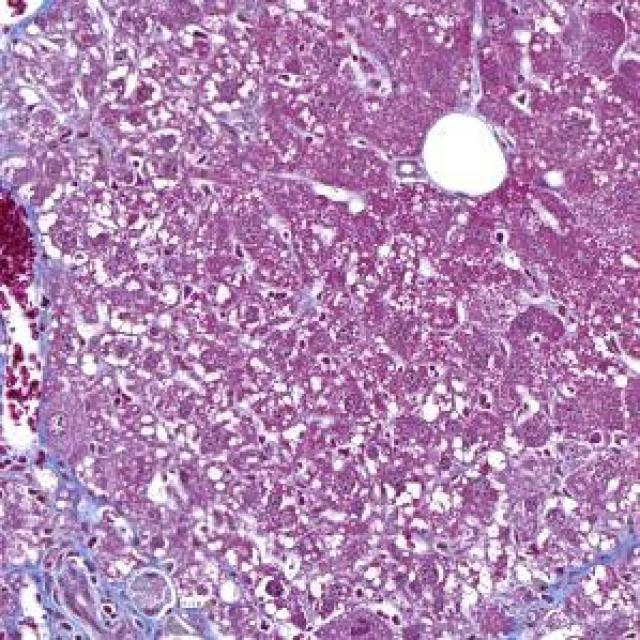fibrosis: (13, 556, 163, 638)
